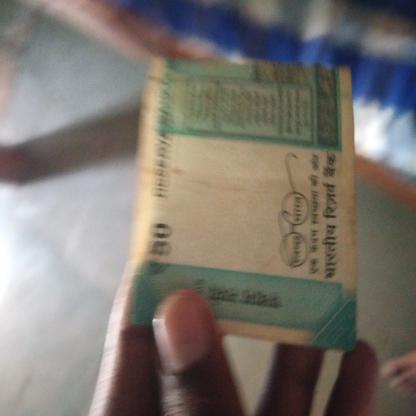New50Back: (140, 64, 350, 334)
